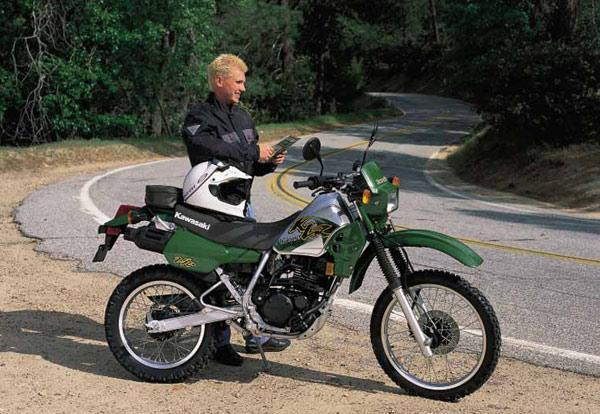motorcycle: (97, 134, 519, 407)
